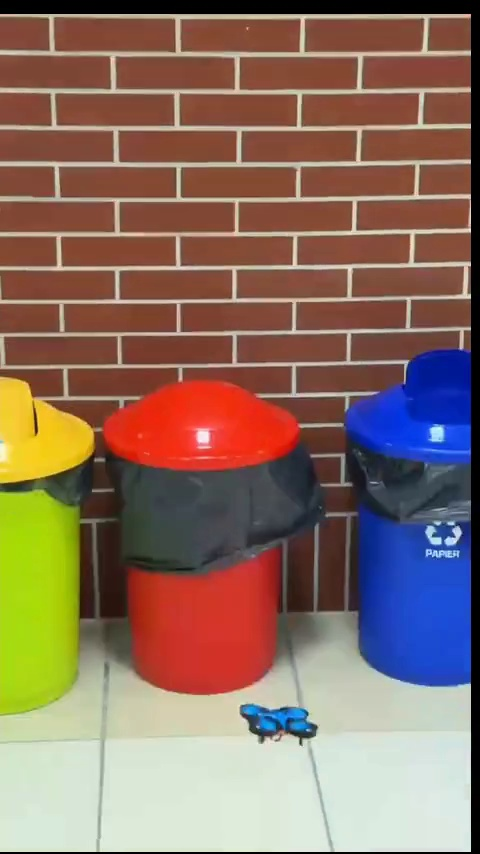drone: (241, 700, 316, 745)
